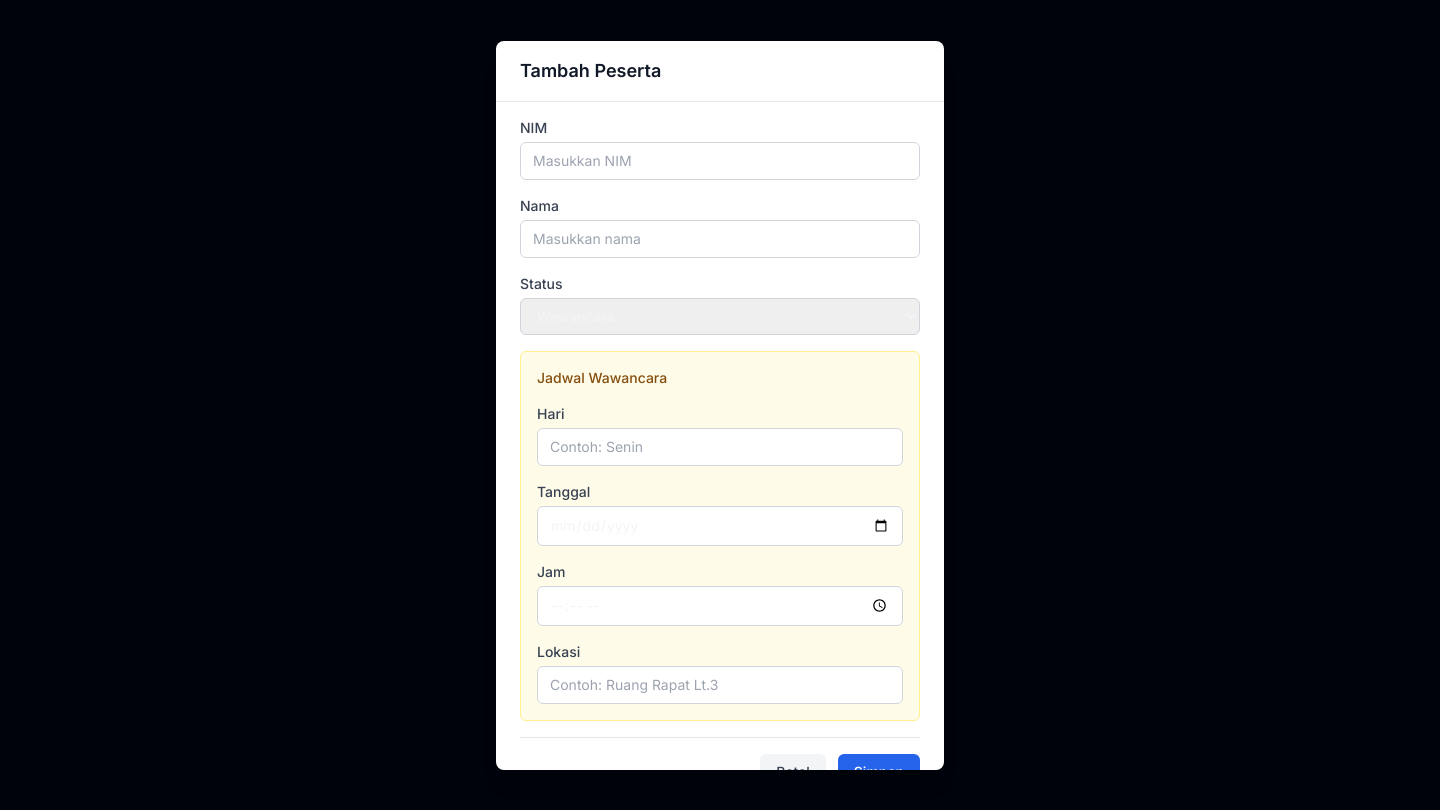
AddPesertaModal › shows bidang validation error when status is lulus and bidang is empty
Step 1. Type "12345678" into the field labelled "NIM" → (720, 160), box top-left (520, 142), bottom-right (920, 180)
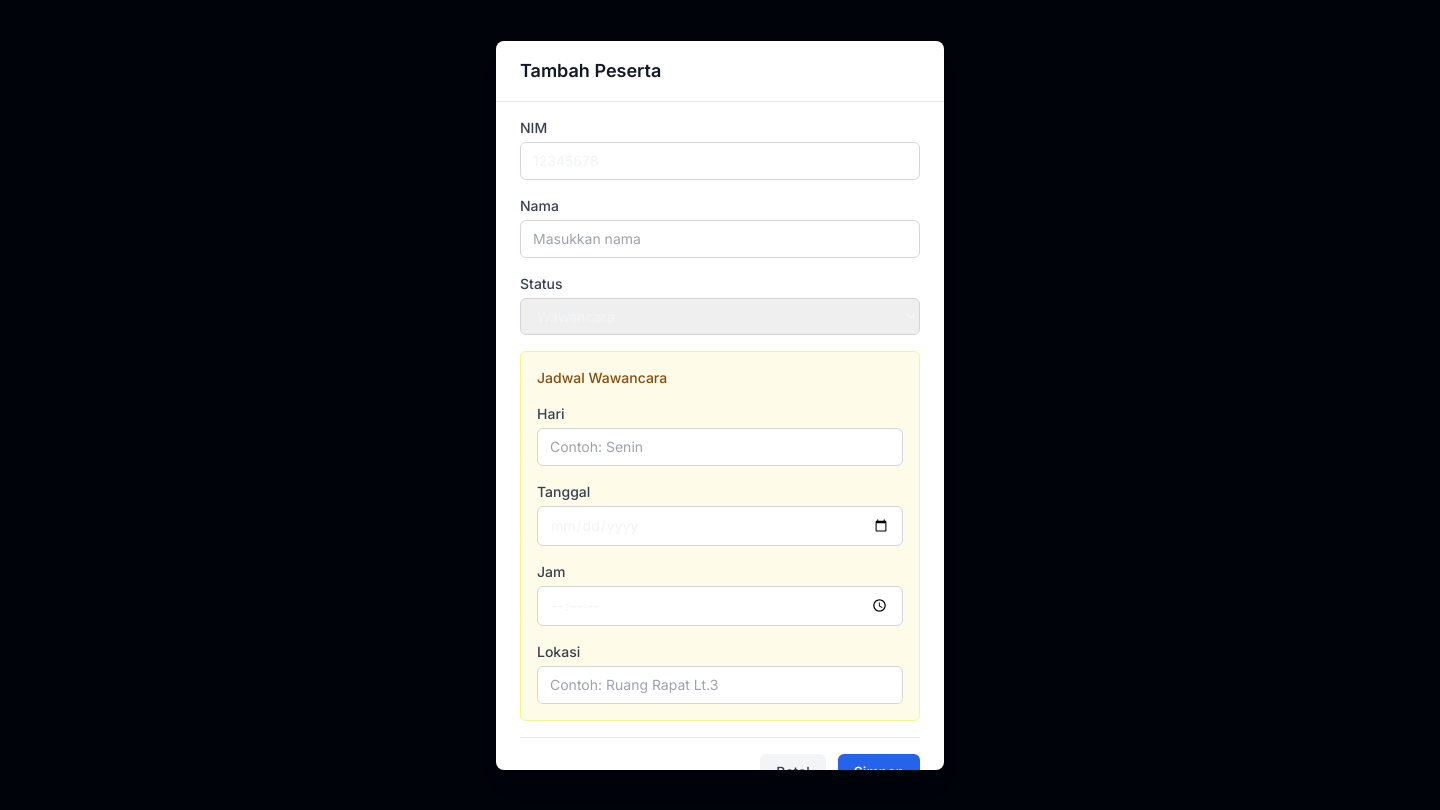
Step 2. Type "Budi" into the field labelled "Nama" → (720, 238), box top-left (520, 220), bottom-right (920, 258)
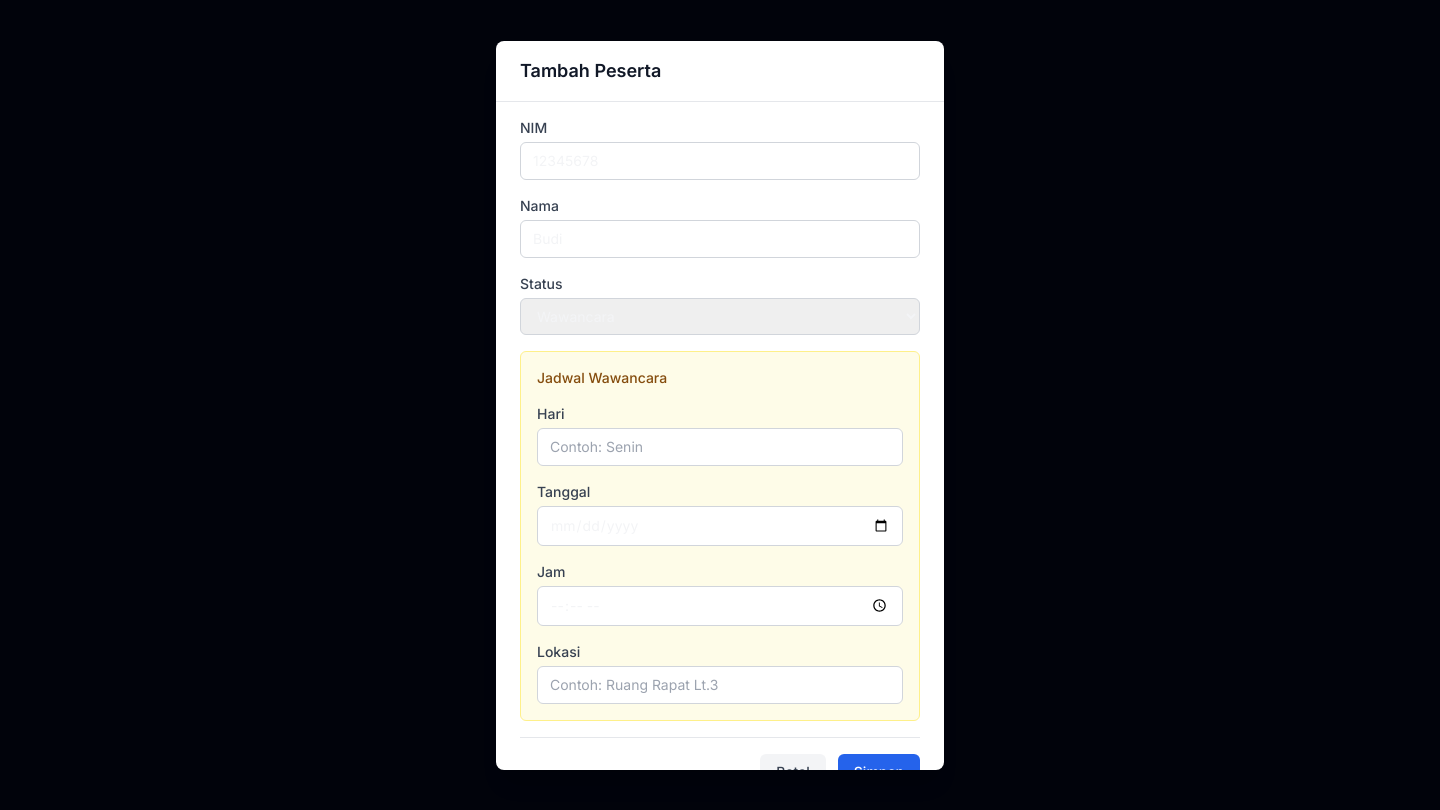
Step 3. Select "Lulus" in the dropdown labelled "Status" → (720, 316), box top-left (520, 298), bottom-right (920, 334)
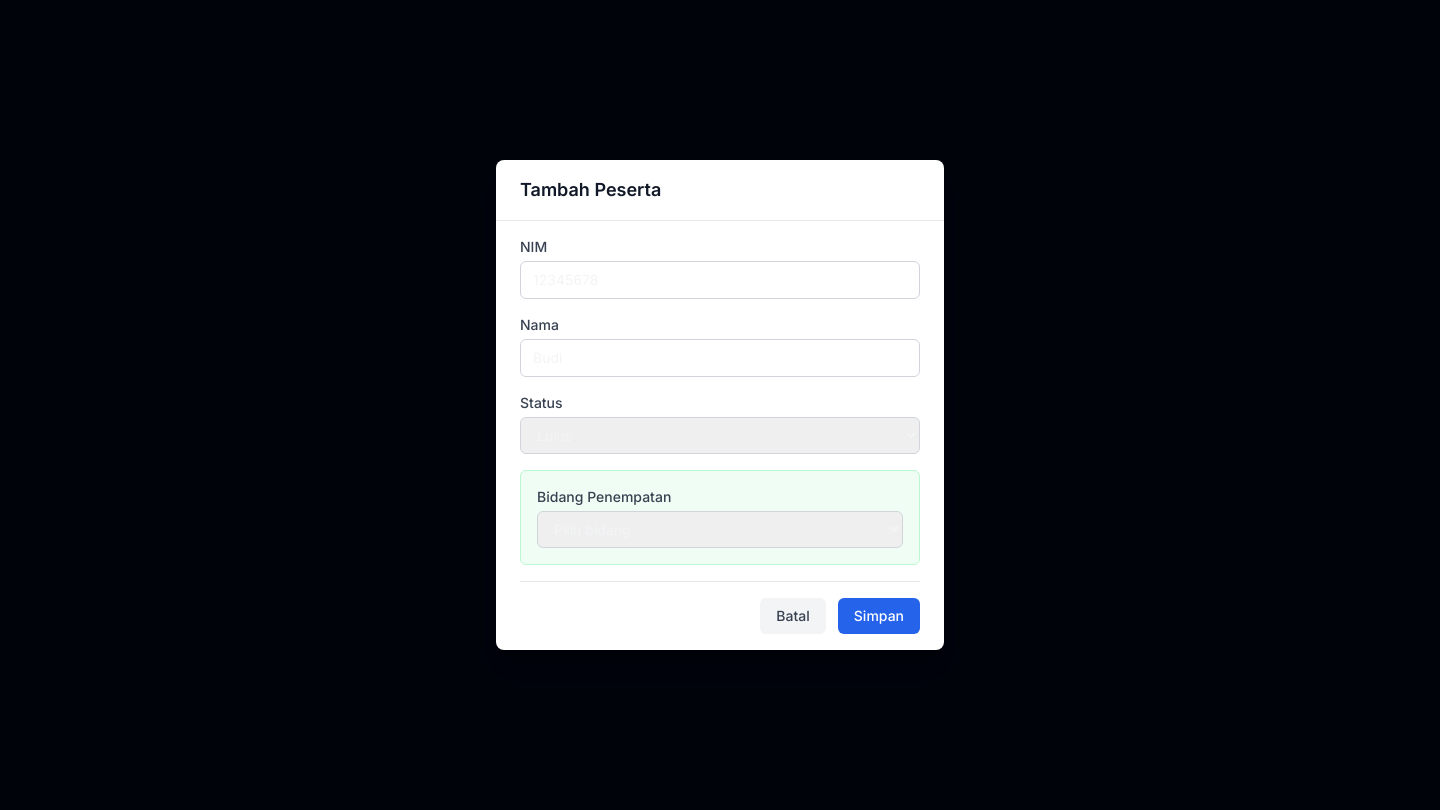
Step 4. Click the button "Simpan" → (879, 616), box top-left (838, 598), bottom-right (920, 634)
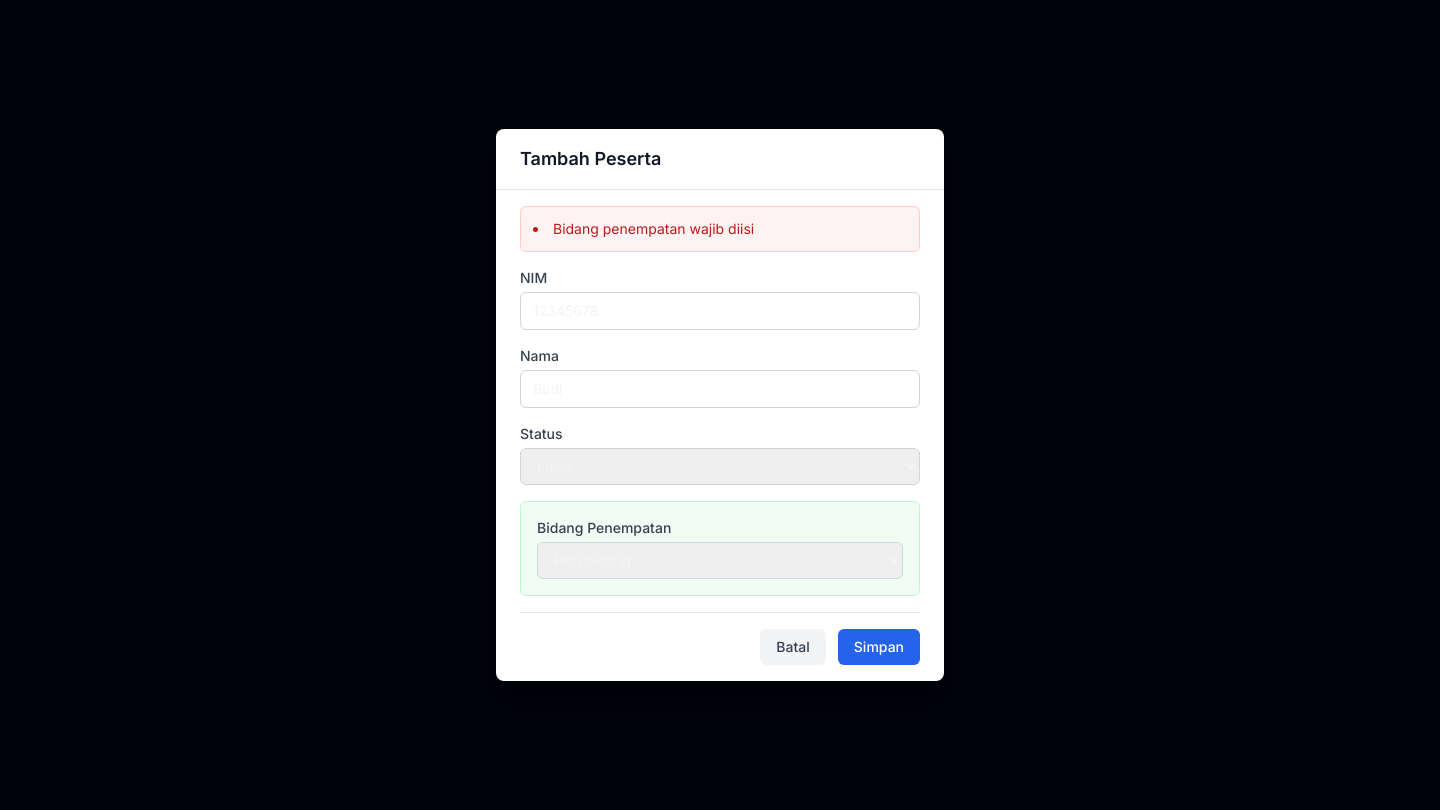
Result: the list item "Bidang penempatan wajib diisi" is shown at top-left (553, 220), bottom-right (754, 237)
